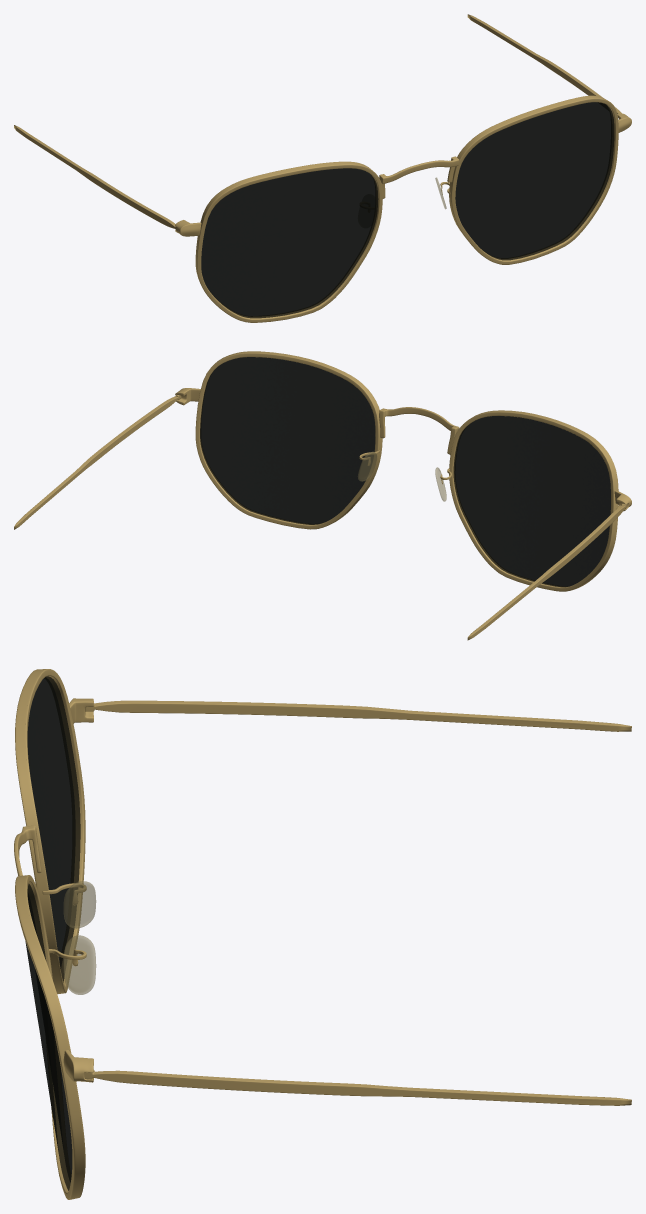
File: hexagonal_app.glb
3 views of the same model, one above another, from view 1: azimuth 30°, elevation 25°; view 2: azimuth 150°, elevation 25°; view 3: azimuth 270°, elevation 25° (orthographic). The views are drawn at different scales.
Parts seen in each view (by area): view 1: lentes, aramacao; view 2: lentes, aramacao, ponte; view 3: aramacao, lentes, ponte.
Boxes of the visible parts, box(x1,y1,x2,y2) form: lentes: box(201, 102, 614, 318); aramacao: box(14, 14, 631, 322); lentes: box(200, 357, 610, 587); aramacao: box(14, 351, 631, 640); ponte: box(358, 451, 446, 501); aramacao: box(14, 669, 631, 1199); lentes: box(25, 676, 80, 1190); ponte: box(63, 881, 96, 994).
Size of the model in its own units: 0.1579 by 0.0519 by 0.1083.
3 materials, 3 textured.
